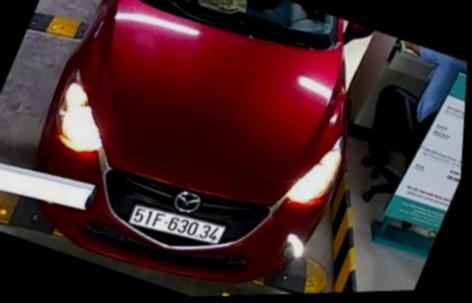License_Plate: (123, 196, 230, 251)
